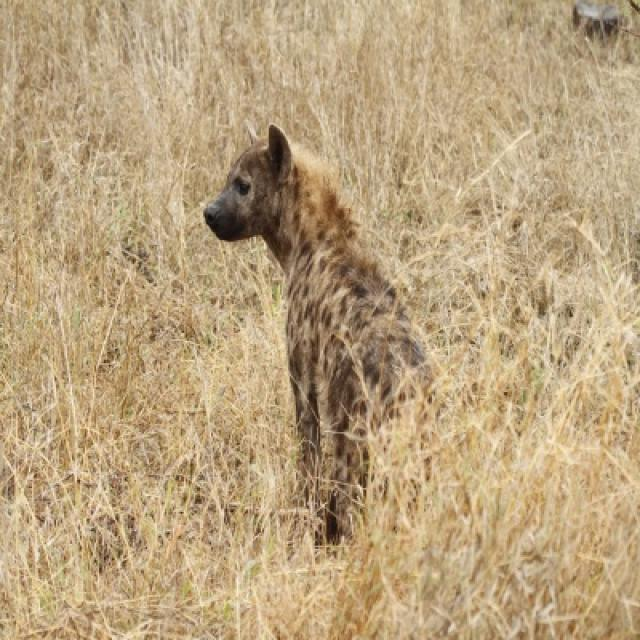hyena: (202, 126, 432, 544)
